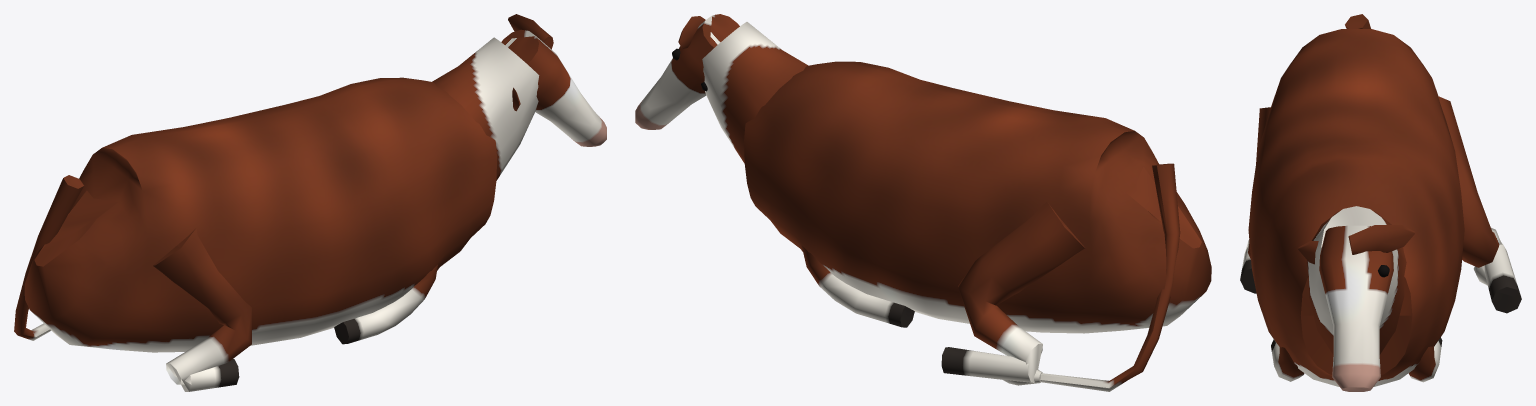
Rendered from tpl_life_herd_2021_cattle_mrij_lie.glb.
The picture shows the model from 3 angles, left to right: view 1: azimuth 30°, elevation 25°; view 2: azimuth 150°, elevation 25°; view 3: azimuth 270°, elevation 25°; orthographic projection. The views are drawn at different scales.
Visible parts, largest first — view 1: tpl_life_herd_2021_cattle_mrij_lie; view 2: tpl_life_herd_2021_cattle_mrij_lie; view 3: tpl_life_herd_2021_cattle_mrij_lie.
Part boxes in pixels (x1,y1,x2,y2): tpl_life_herd_2021_cattle_mrij_lie: (14,14,606,391); tpl_life_herd_2021_cattle_mrij_lie: (635,14,1211,391); tpl_life_herd_2021_cattle_mrij_lie: (1240,14,1521,391).
Size of the model in its own units: 2.32 by 0.9312 by 0.9187.
2 materials, 1 textured.
